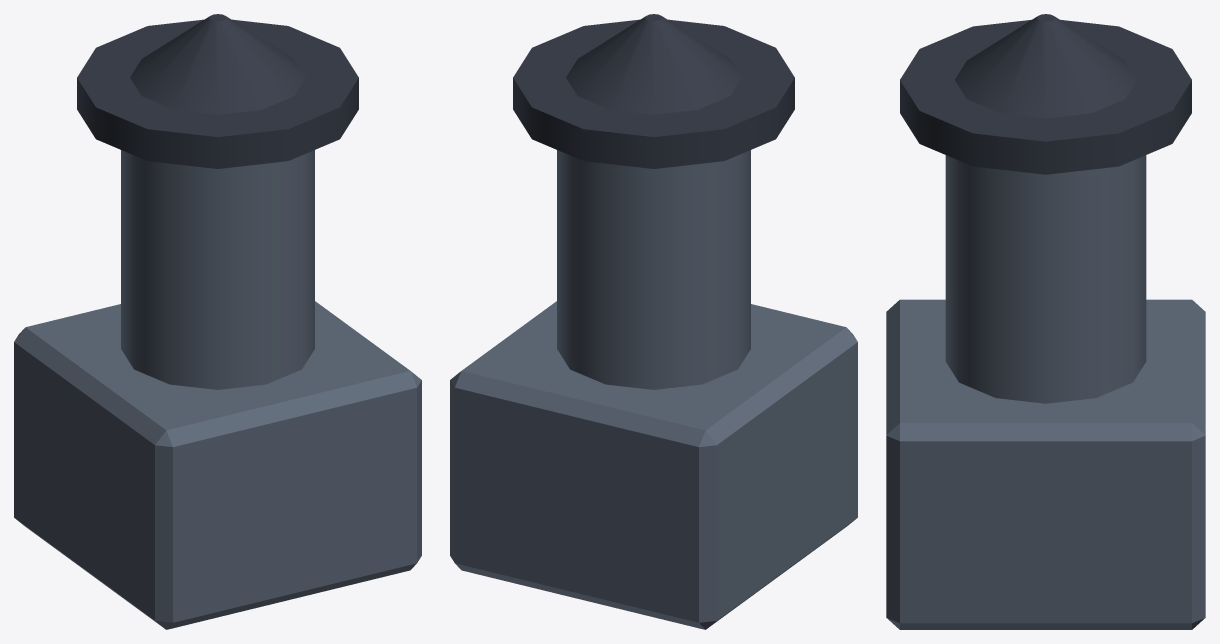
File: roof_vent.glb
3 views of the same model, side by side, from view 1: azimuth 30°, elevation 25°; view 2: azimuth 150°, elevation 25°; view 3: azimuth 270°, elevation 25° (orthographic). The views are drawn at different scales.
Parts seen in each view (by area): view 1: roof_vent; view 2: roof_vent; view 3: roof_vent.
Part boxes in pixels (bbox=[...]): roof_vent: bbox=[14, 14, 421, 629]; roof_vent: bbox=[450, 14, 857, 629]; roof_vent: bbox=[886, 14, 1205, 629].
Size of the model in its own units: 0.7 by 1.33 by 0.7.
1 material, 1 textured.
